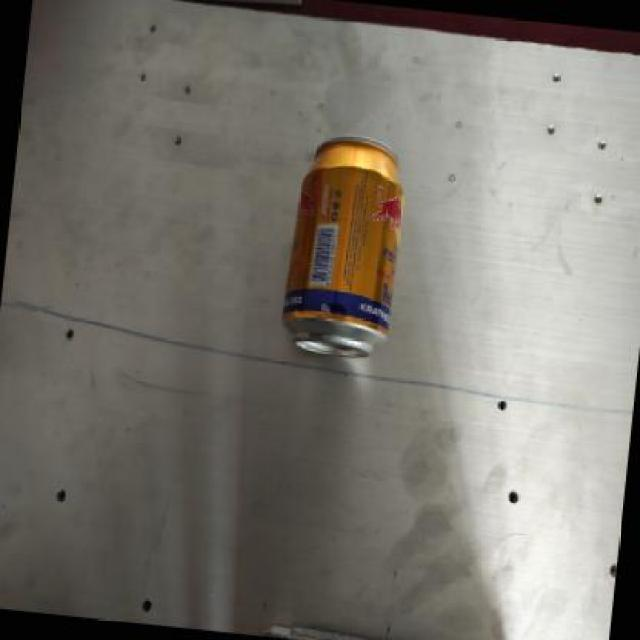recyclable: (269, 117, 414, 374)
